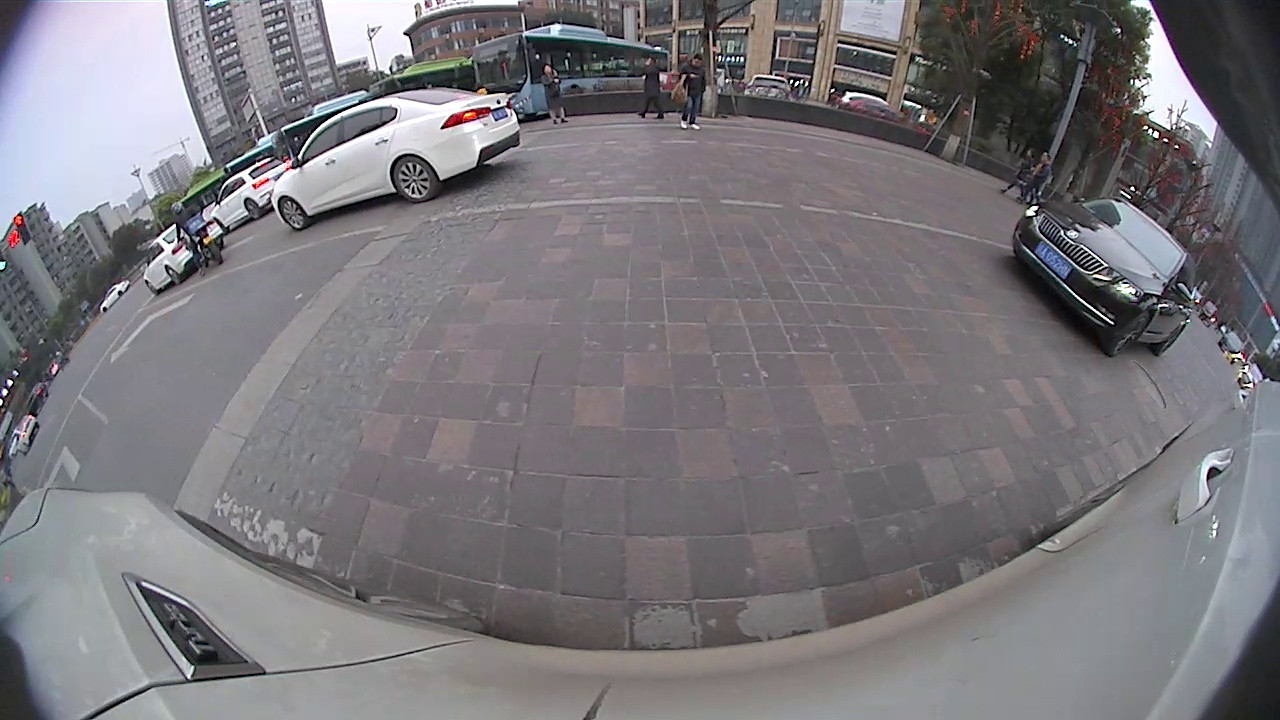bus: (472, 22, 673, 117)
car: (269, 85, 525, 233), (1010, 193, 1200, 360), (210, 155, 289, 237), (141, 224, 205, 298)
front: (1103, 310, 1153, 360), (277, 196, 310, 230)
person: (682, 52, 704, 131), (543, 63, 560, 122), (1036, 150, 1050, 204)
rear: (390, 155, 443, 206)
rider: (172, 199, 225, 276)
